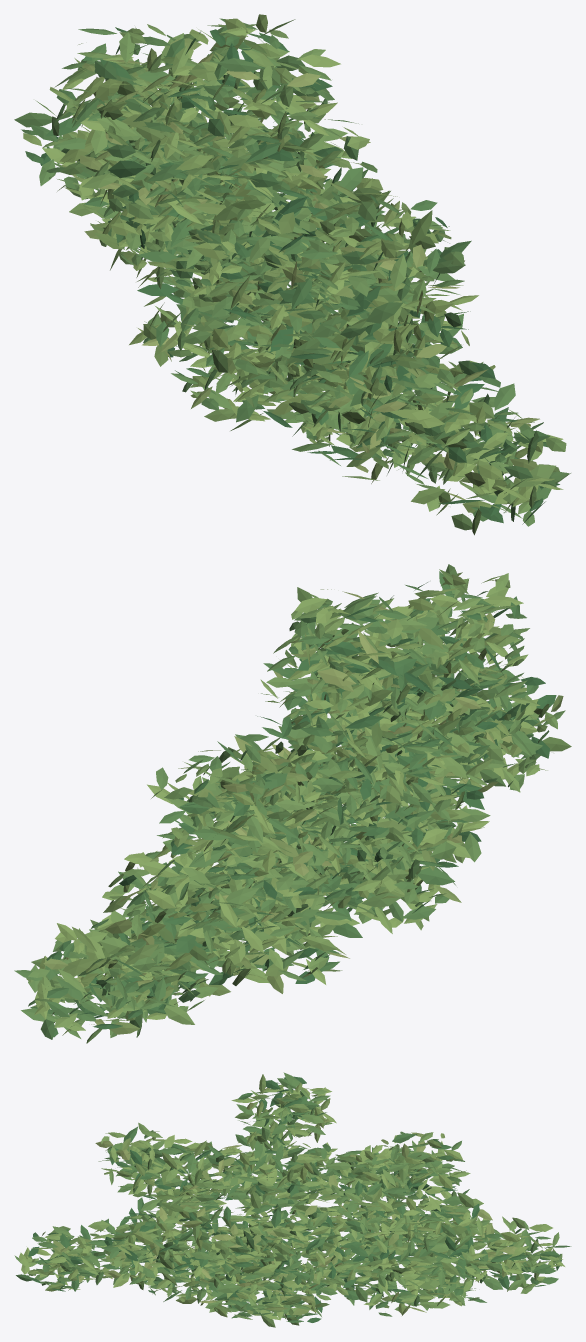
Rendered from holy_canopy4_branchfit.glb.
The picture shows the model from 3 angles, top to bottom: view 1: azimuth 30°, elevation 25°; view 2: azimuth 150°, elevation 25°; view 3: azimuth 270°, elevation 25°; orthographic projection. The views are drawn at different scales.
Parts seen in each view (by area): view 1: holy_canopy4; view 2: holy_canopy4; view 3: holy_canopy4.
Boxes of the visible parts, x1=… form: holy_canopy4: x1=14, y1=14, x2=570, y2=535; holy_canopy4: x1=14, y1=564, x2=571, y2=1043; holy_canopy4: x1=14, y1=1072, x2=571, y2=1327.
Size of the model in its own units: 8.12 by 12.37 by 28.35.
Materials: 1 (1 with a texture image).
